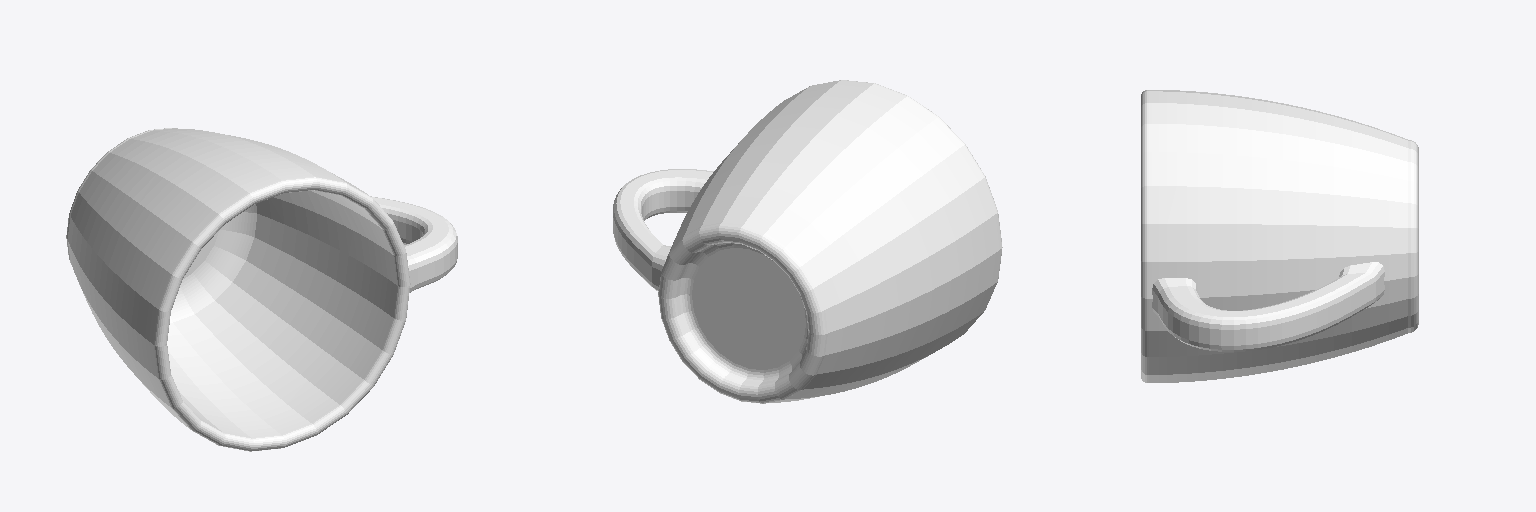
File: cup.obj
3 renders of one model, left to right at view 1: azimuth 30°, elevation 25°; view 2: azimuth 150°, elevation 25°; view 3: azimuth 270°, elevation 25°, orthographic.
Parts seen in each view (by area): view 1: Cup; view 2: Cup; view 3: Cup.
Boxes of the visible parts, box(x1,y1,x2,y2) form: Cup: box(66, 128, 457, 451); Cup: box(613, 80, 1002, 403); Cup: box(1141, 90, 1418, 382).
Bounding box in the file's own units: 0.1211 × 0.0922 × 0.0868.